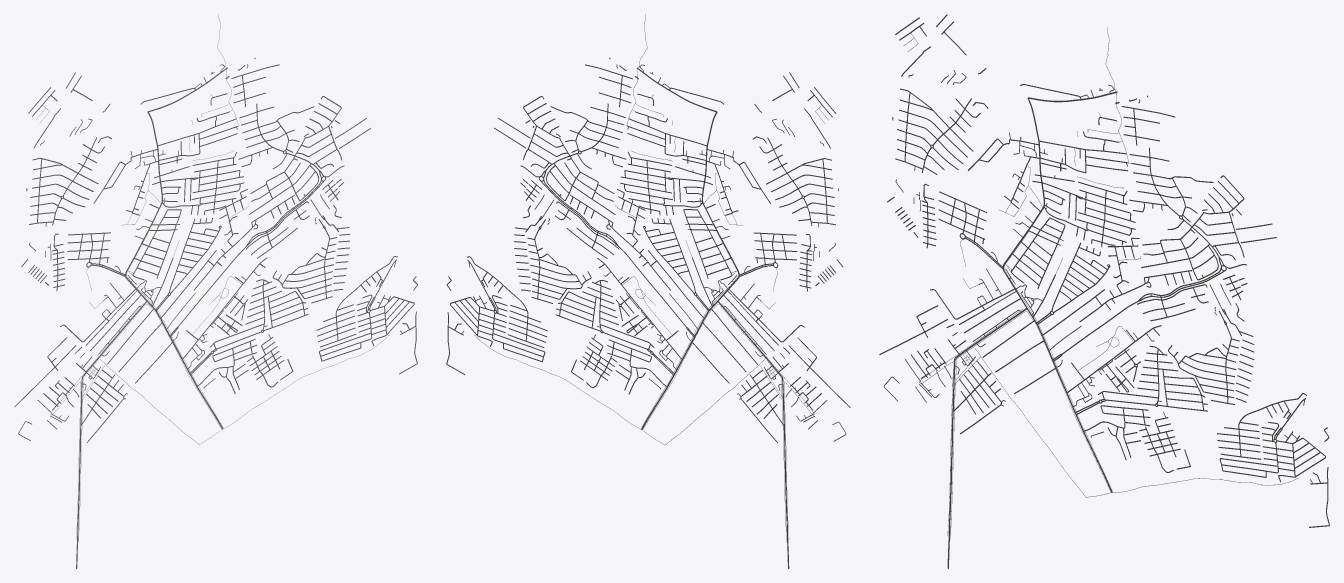
Rendered from roads_3_0.obj.
3 views of the same model, side by side, from view 1: azimuth 30°, elevation 25°; view 2: azimuth 150°, elevation 25°; view 3: azimuth 330°, elevation 25° (orthographic). The views are drawn at different scales.
Bounding box in the file's own units: 2575 × 3167 × 7.13.
3 materials, 3 textured.
